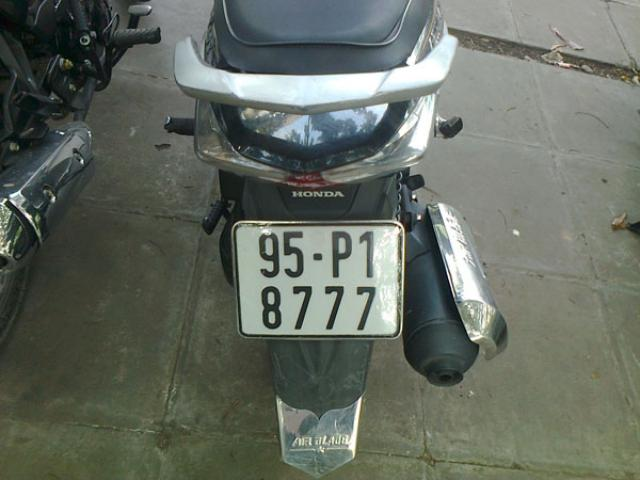plate: (237, 226, 401, 338)
